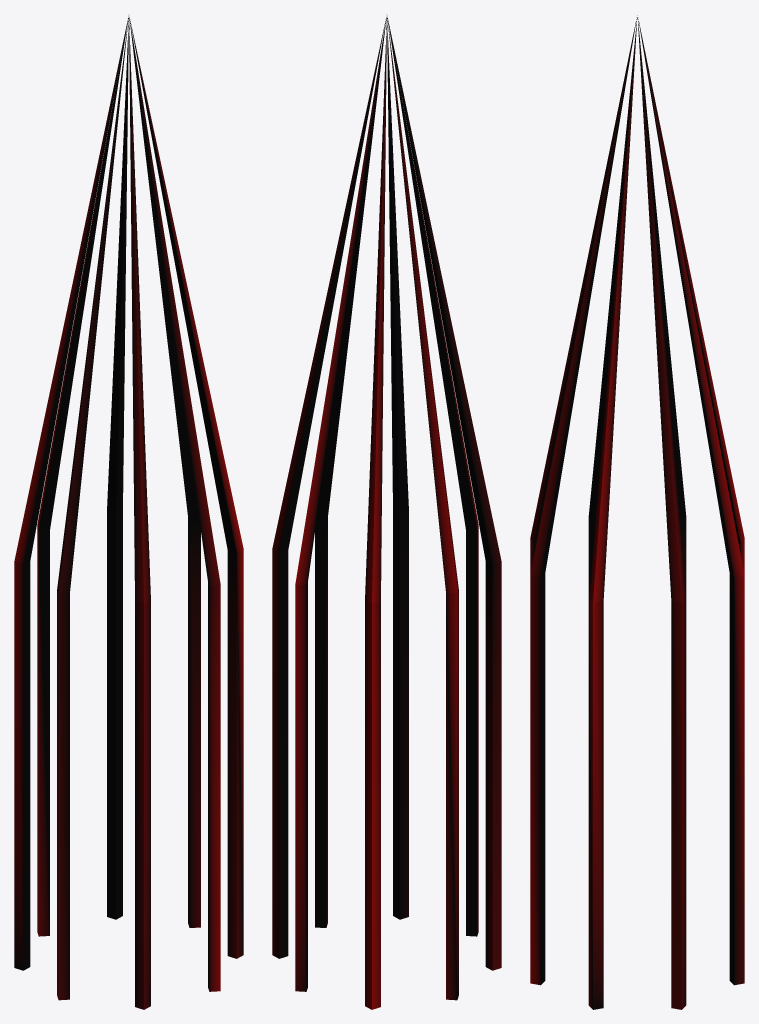
The model's file is TowerTopVertical_export.obj.
The picture shows the model from 3 angles, left to right: view 1: azimuth 30°, elevation 25°; view 2: azimuth 150°, elevation 25°; view 3: azimuth 270°, elevation 25°; orthographic projection.
Parts seen in each view (by area): view 1: TowerTopVertical; view 2: TowerTopVertical; view 3: TowerTopVertical.
Part boxes in pixels (x1=…): TowerTopVertical: x1=14, y1=16, x2=243, y2=1009; TowerTopVertical: x1=272, y1=16, x2=501, y2=1009; TowerTopVertical: x1=530, y1=15, x2=744, y2=1009.
Bounding box in the file's own units: 5.72 × 28 × 5.72.
